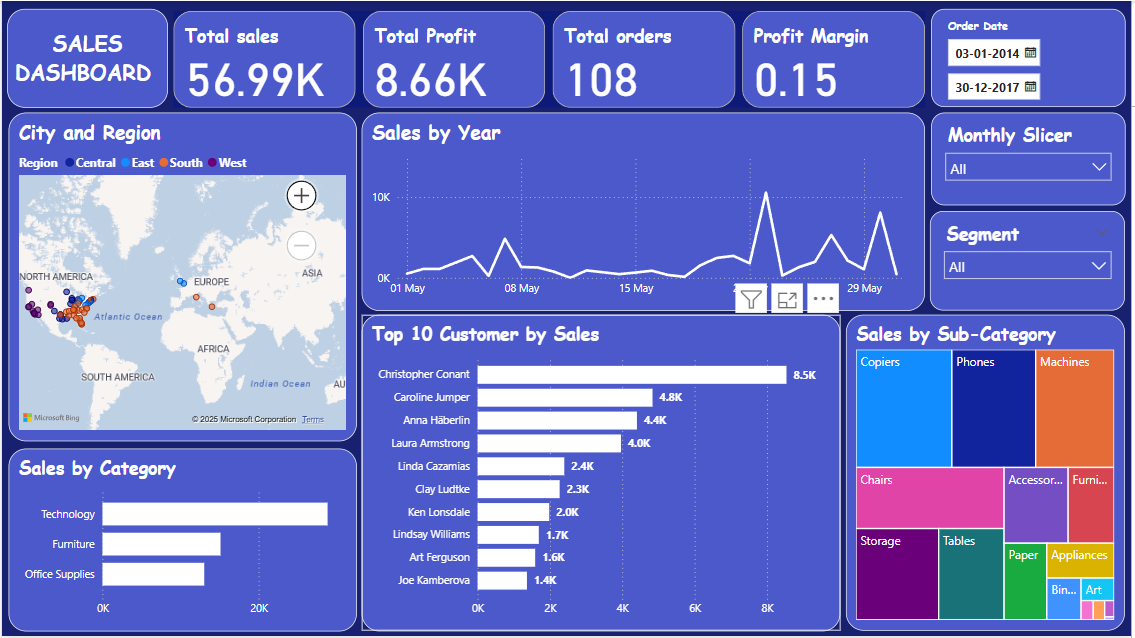

Layout of this report page (visuals, bound fields, positions):
{"tool":"powerbi","page":{"name":"Page 1","canvas":[1280,720],"ordinal":0},"visuals":[{"type":"cardVisual","fields":{"Data":["Sample - Superstore.Total sales","Sample - Superstore.Total Profit","Sample - Superstore.Total orders","Sample - Superstore.Profit Margin"]},"box":[189.2,5.4,863.8,120.8],"z":0},{"type":"barChart","title":"Sales by Category","fields":{"Category":["Sample - Superstore.Category"],"Y":["Sample - Superstore.Sales"]},"box":[6.9,506.9,394.4,206.9],"z":1000},{"type":"treemap","title":"Sales by Sub-Category","fields":{"Group":["Sample - Superstore.Sub-Category"],"Values":["Sample - Superstore.Sales"]},"box":[956.7,355.2,316.4,358.2],"z":2000},{"type":"map","fields":{"Series":["Sample - Superstore.Region"],"Category":["Sample - Superstore.City"]},"box":[6.9,126.2,394.6,372.3],"z":3000},{"type":"lineChart","title":"Sales by Year","fields":{"Category":["Sample - Superstore.Order Date.Variation.Date Hierarchy.Year","Sample - Superstore.Order Date.Variation.Date Hierarchy.Quarter","Sample - Superstore.Order Date.Variation.Date Hierarchy.Month","Sample - Superstore.Order Date.Variation.Date Hierarchy.Day"],"Y":["Sample - Superstore.Sales"]},"box":[407.9,126.1,638.8,224.8],"z":4000},{"type":"slicer","fields":{"Values":["Sample - Superstore.Order Date.Variation.Date Hierarchy.Month"]},"box":[1053.1,126.2,220,105.4],"z":5000},{"type":"barChart","title":"Top 10 Customer by Sales","fields":{"Y":["Sample - Superstore.Total sales"],"Category":["Sample - Superstore.Customer Name"]},"box":[408.1,355.3,542.6,358.9],"z":7000},{"type":"slicer","fields":{"Values":["Sample - Superstore.Segment"]},"box":[1051.6,238.3,221.3,112.8],"z":8000},{"type":"slicer","fields":{"Values":["Sample - Superstore.Order Date"]},"box":[1053.1,9.2,220,111.5],"z":9000},{"type":"textbox","box":[6,9.2,182.3,112.3],"z":10000}]}

Visuals, with their boxes in screenshot pixels (x1, y1, x2, y2), scaled from the page's 1280x720 canvas onto the 1135x638 screenshot:
cardVisual - Sample - Superstore.Total sales x Sample - Superstore.Total Profit: {"x1": 168, "y1": 5, "x2": 934, "y2": 112}
"Sales by Category" barChart: {"x1": 6, "y1": 449, "x2": 356, "y2": 633}
"Sales by Sub-Category" treemap: {"x1": 848, "y1": 315, "x2": 1129, "y2": 632}
map - Sample - Superstore.Region x Sample - Superstore.City: {"x1": 6, "y1": 112, "x2": 356, "y2": 442}
"Sales by Year" lineChart: {"x1": 362, "y1": 112, "x2": 928, "y2": 311}
slicer - Sample - Superstore.Order Date.Variation.Date Hierarchy.Month: {"x1": 934, "y1": 112, "x2": 1129, "y2": 205}
"Top 10 Customer by Sales" barChart: {"x1": 362, "y1": 315, "x2": 843, "y2": 633}
slicer - Sample - Superstore.Segment: {"x1": 932, "y1": 211, "x2": 1129, "y2": 311}
slicer - Sample - Superstore.Order Date: {"x1": 934, "y1": 8, "x2": 1129, "y2": 107}
textbox: {"x1": 5, "y1": 8, "x2": 167, "y2": 108}
